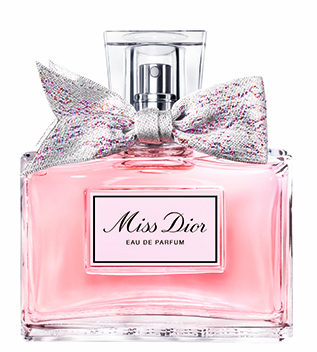dior_miss_dior: (18, 26, 298, 345)
